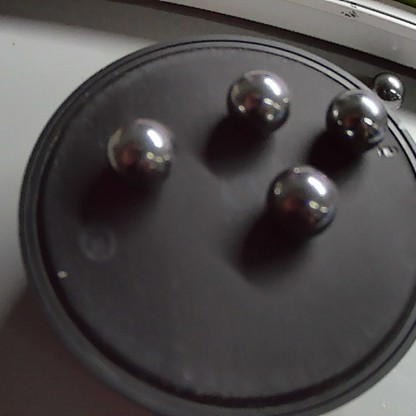ironball: (253, 156, 336, 239), (213, 61, 293, 144), (103, 114, 177, 190), (324, 81, 391, 154), (370, 59, 406, 109)
